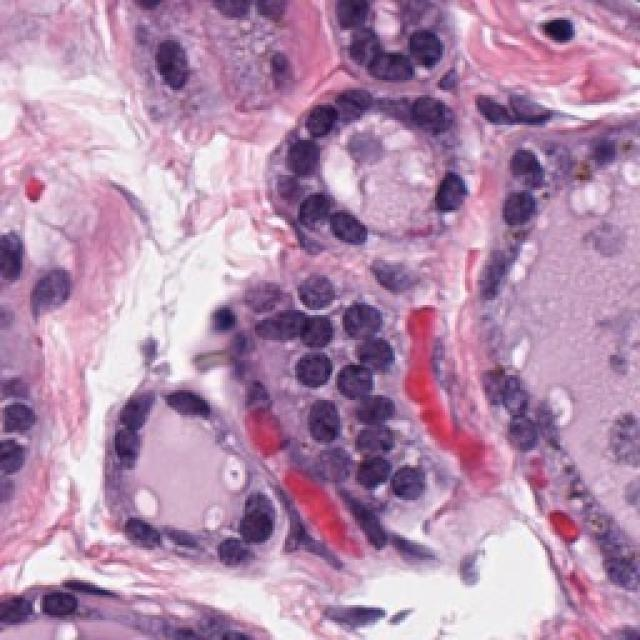normal: (154, 366, 230, 440), (369, 450, 438, 526), (482, 185, 551, 261), (280, 391, 360, 456), (312, 184, 370, 272), (284, 81, 368, 138), (282, 119, 346, 181), (232, 489, 299, 547), (326, 10, 393, 66), (403, 5, 461, 67), (339, 285, 399, 338), (407, 89, 460, 148), (343, 331, 401, 382), (297, 348, 343, 400)
